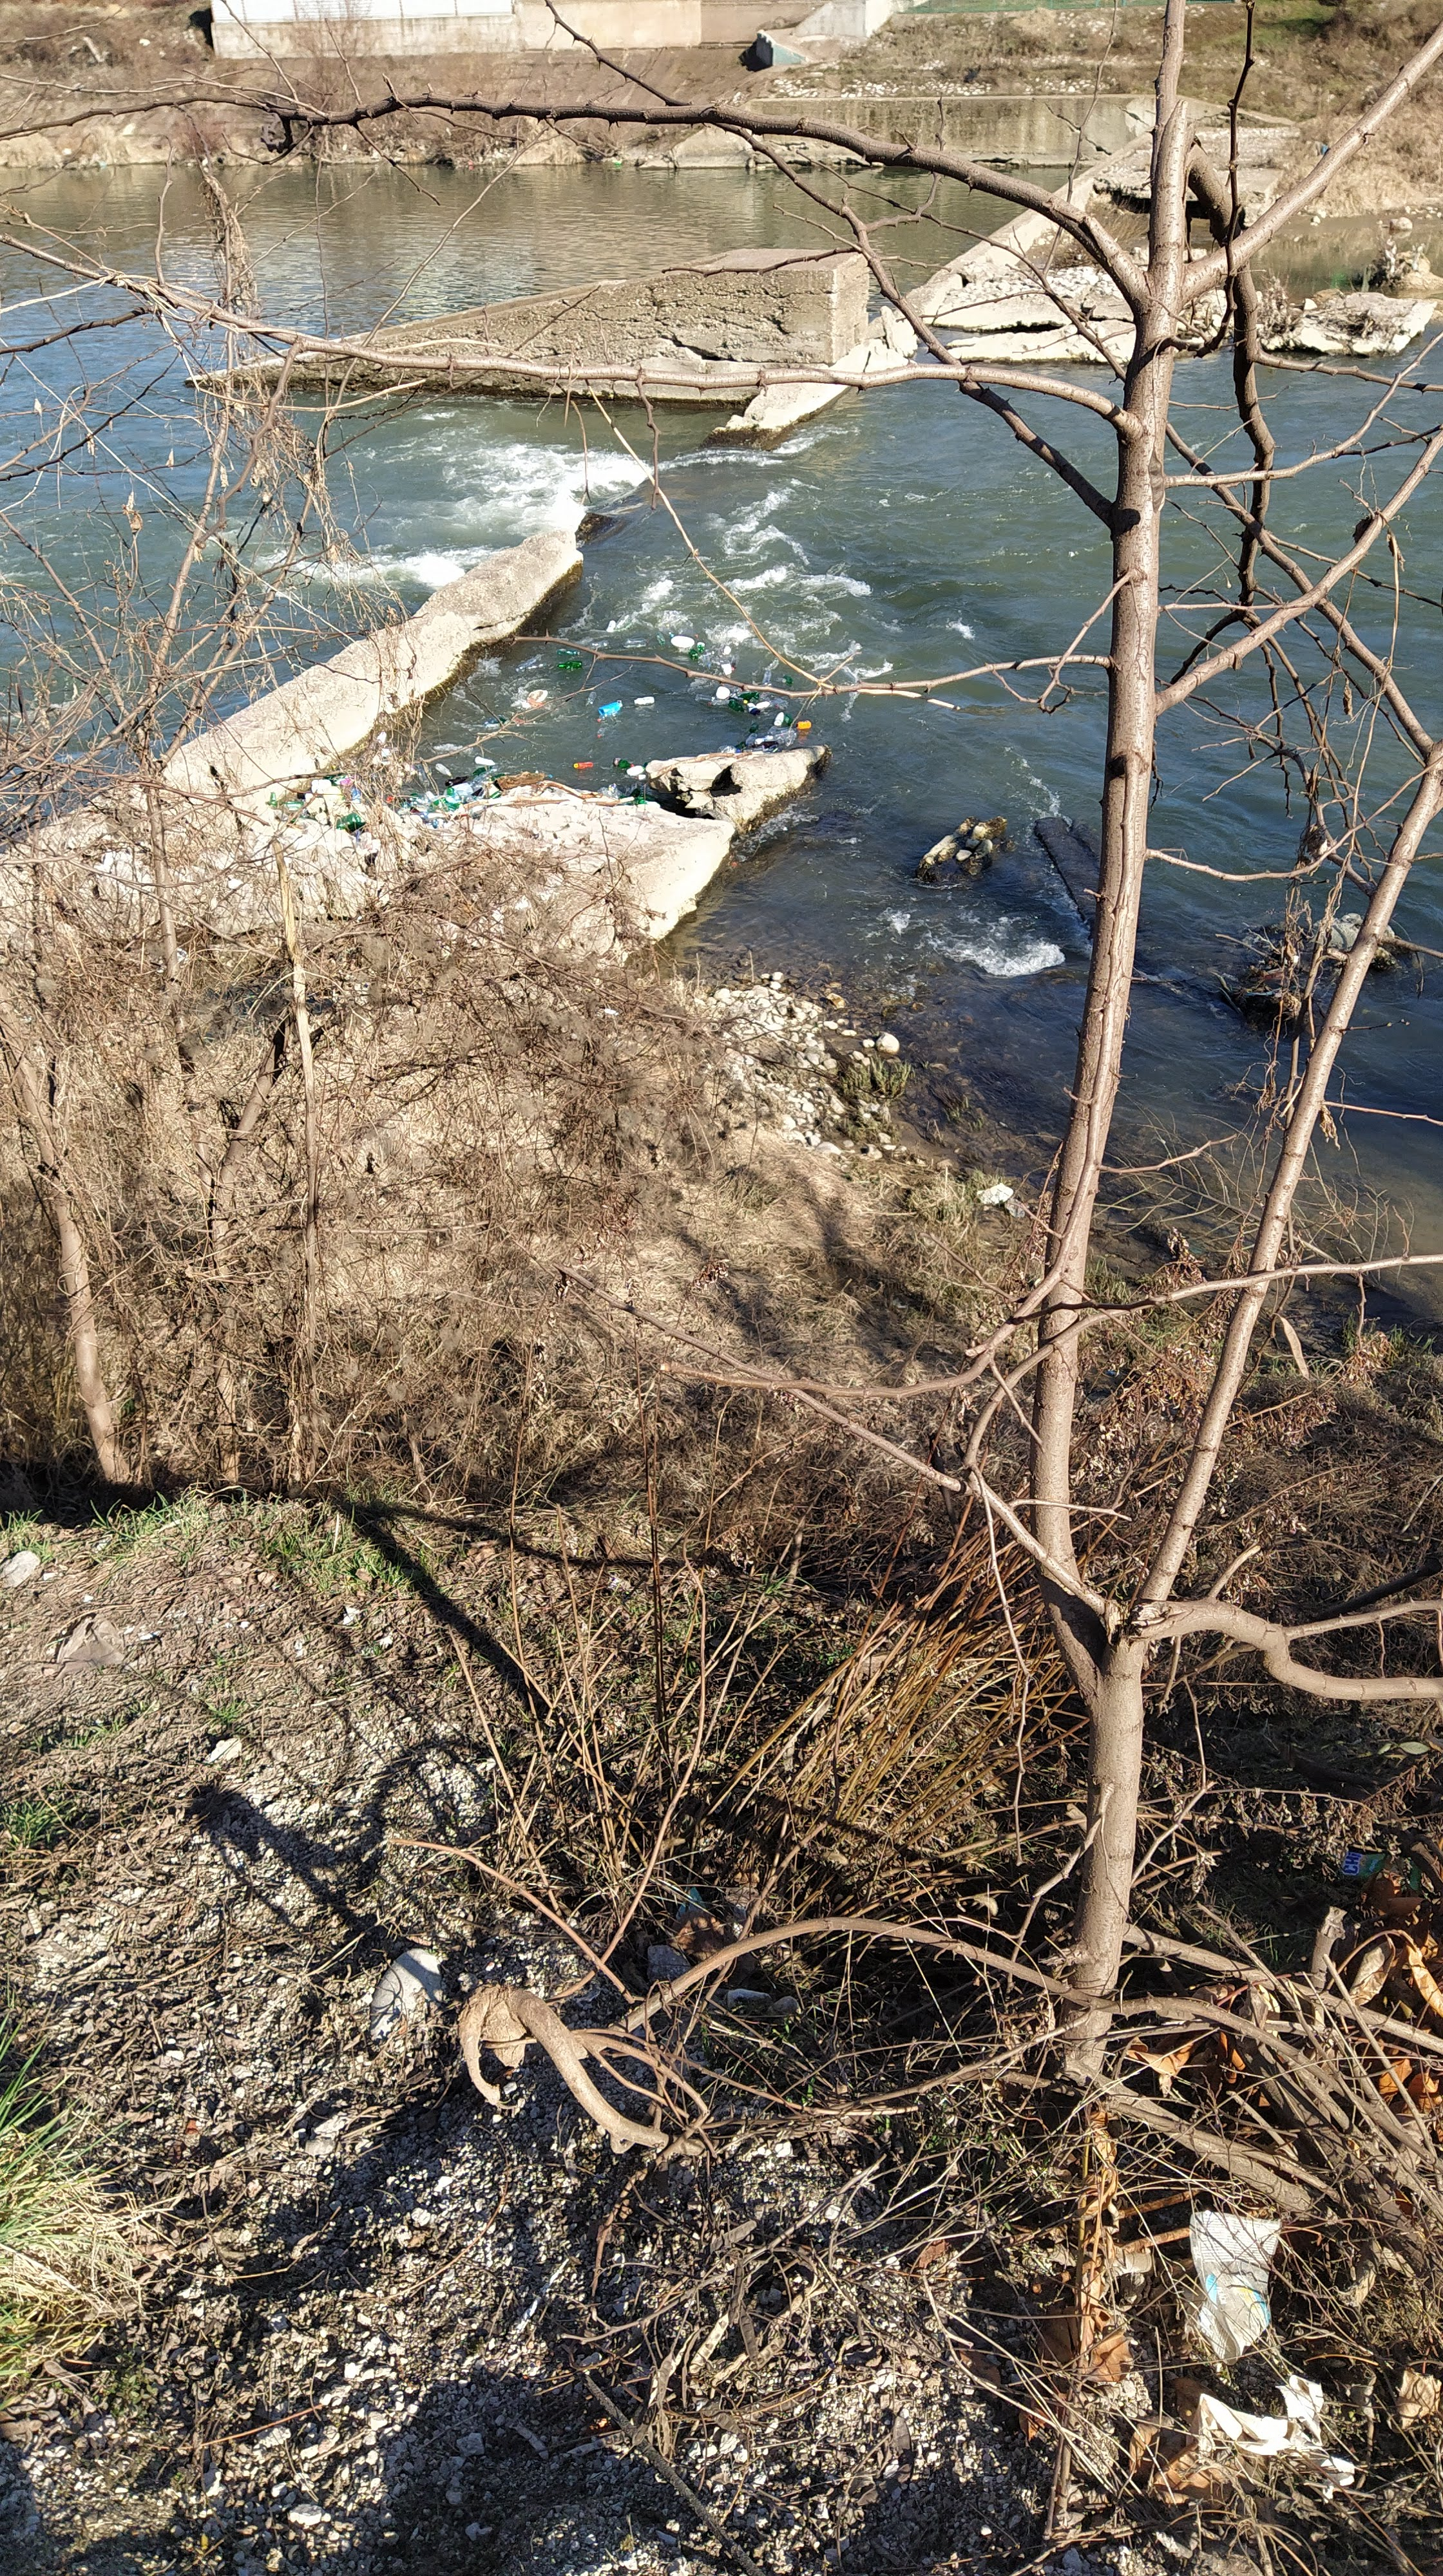Plastic Bottle: (444, 775, 469, 787), (515, 656, 536, 671), (471, 764, 496, 775), (473, 770, 494, 782), (694, 694, 722, 702), (526, 662, 549, 672), (621, 639, 648, 648), (529, 768, 551, 778), (436, 763, 451, 777), (586, 640, 611, 649), (558, 660, 583, 669), (613, 757, 632, 768), (625, 764, 644, 775), (416, 770, 428, 786), (634, 695, 655, 704), (717, 745, 738, 754), (752, 741, 777, 748), (597, 711, 616, 720), (597, 722, 607, 738), (584, 692, 595, 708), (729, 701, 745, 711), (558, 649, 581, 656), (475, 757, 498, 764), (572, 763, 593, 770), (761, 669, 772, 683), (774, 711, 784, 725), (738, 692, 760, 699), (683, 628, 698, 639), (786, 734, 797, 747), (745, 732, 756, 745), (797, 720, 811, 729), (754, 736, 772, 743), (774, 701, 788, 709), (703, 655, 712, 669), (783, 674, 793, 685), (784, 715, 795, 725), (662, 626, 673, 637), (776, 734, 786, 745), (706, 701, 728, 706), (731, 655, 738, 671), (655, 632, 664, 644), (756, 701, 770, 708), (483, 717, 498, 724), (643, 794, 657, 801), (689, 649, 698, 660), (498, 715, 510, 722), (767, 725, 776, 734), (751, 722, 758, 732), (749, 708, 760, 715), (485, 724, 499, 729), (737, 741, 745, 748), (776, 678, 786, 683), (698, 642, 703, 653), (505, 711, 513, 717), (614, 163, 621, 168), (639, 775, 646, 778)
